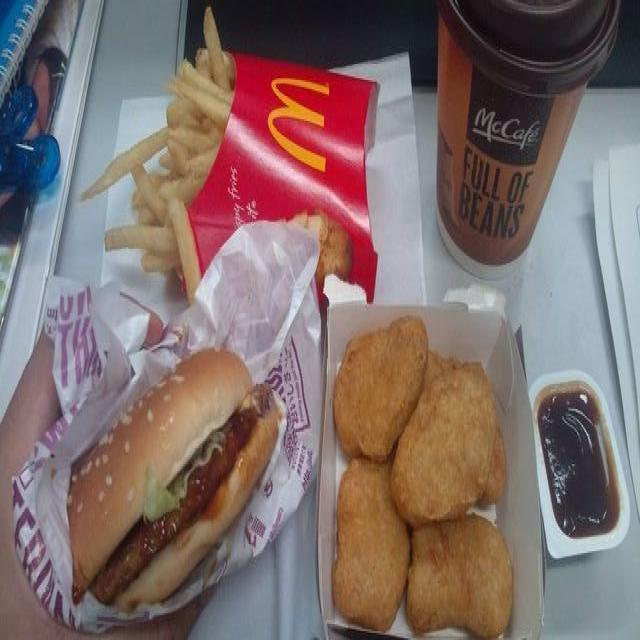French Fries: (96, 10, 224, 276)
Hamburger: (66, 336, 279, 616)
